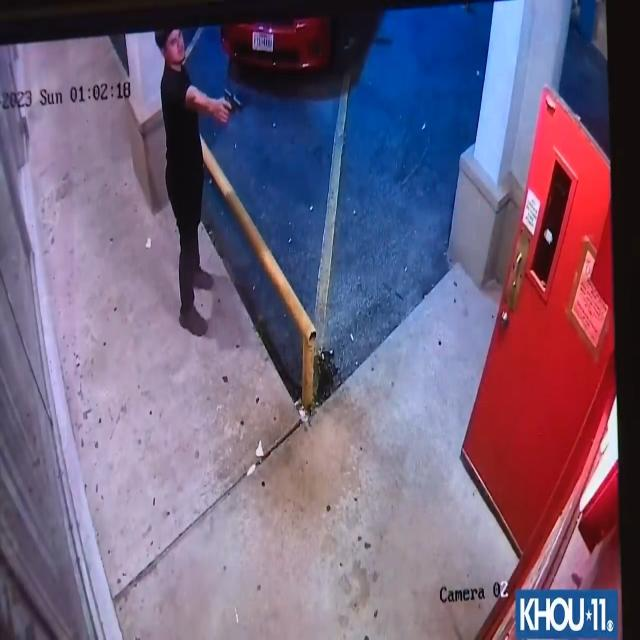Gun_Holder: (220, 81, 243, 122)
Person: (144, 24, 236, 336)
